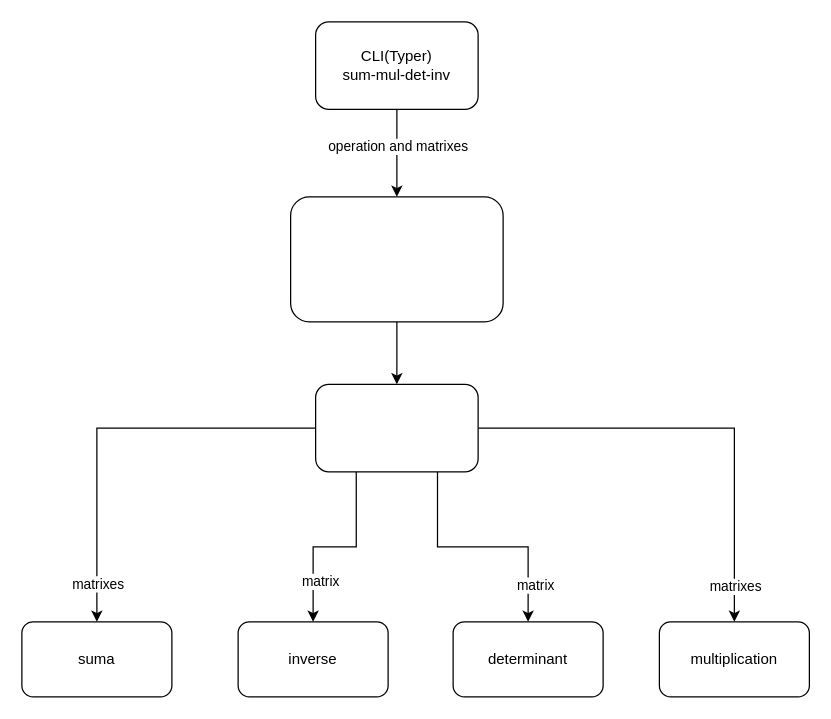
Some shapes in this 831 by 719 pixel diagram are drawn without their labels. The shapes that lost their labels are listed below. From the top down, each one's centre as x and y in pixels, then its label:
At (x=396, y=259): "Application Operations dictionary".
At (x=396, y=427): "Operation".
